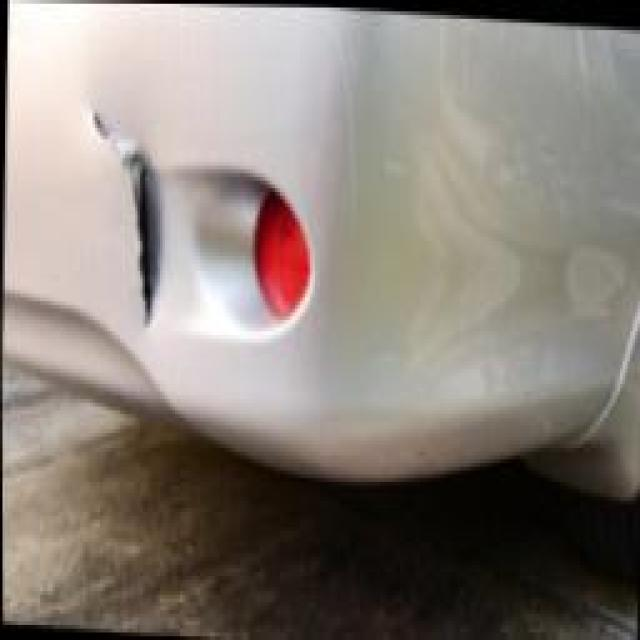Bumper: (63, 96, 180, 336)
